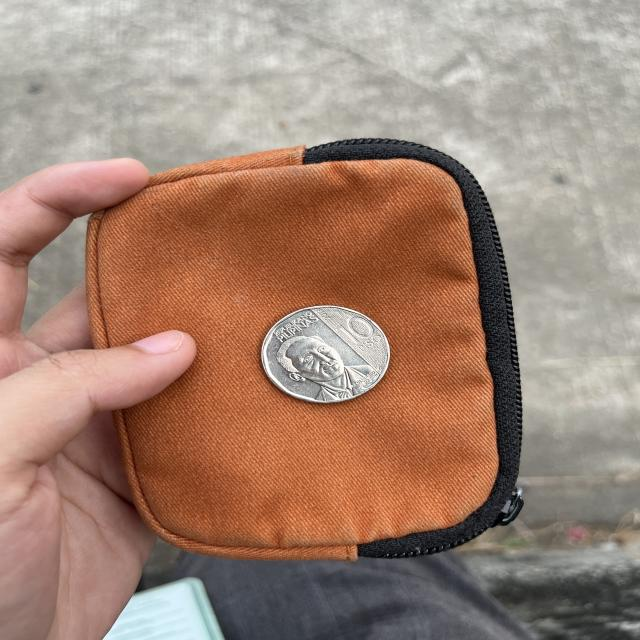10_New_Front: (328, 314, 382, 354)
